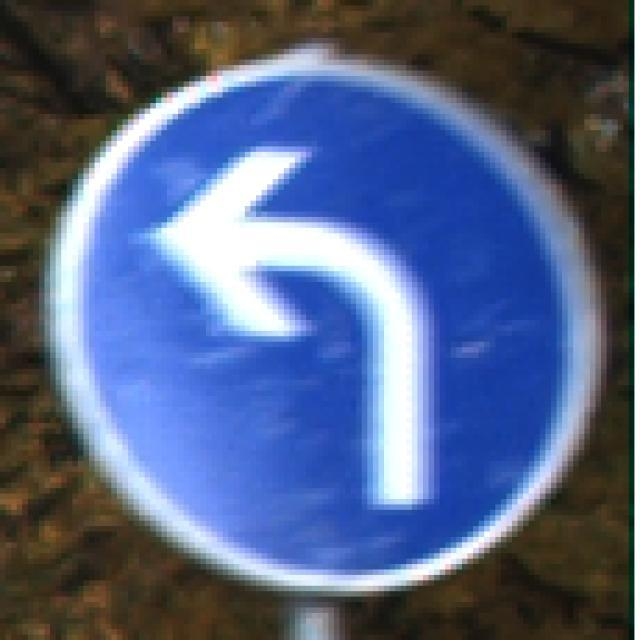compulsary turn left ahead: (52, 51, 606, 595)
